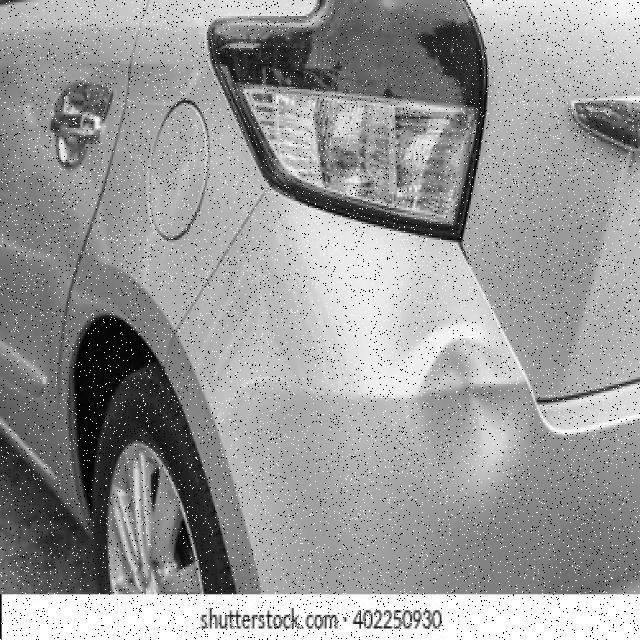rear-bumper-dent: (166, 322, 638, 596)
